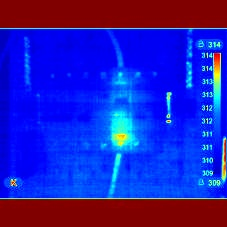Medium: (105, 108, 143, 157)
